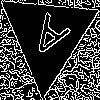A: (22, 11, 72, 68)
